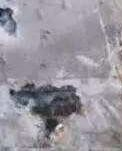Spalling: (8, 82, 84, 151), (1, 5, 18, 38)
